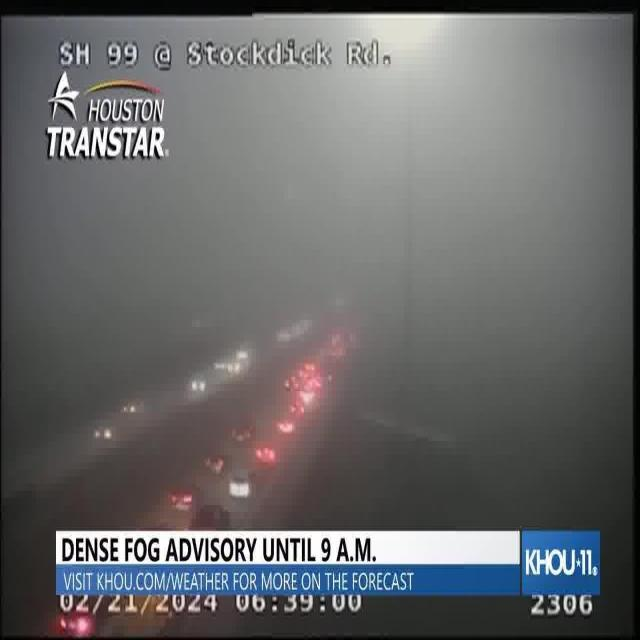Car: (58, 610, 96, 638), (169, 487, 194, 512), (186, 376, 208, 400), (255, 442, 278, 462), (288, 398, 306, 417), (206, 456, 224, 474), (94, 426, 113, 441), (278, 419, 294, 434)
